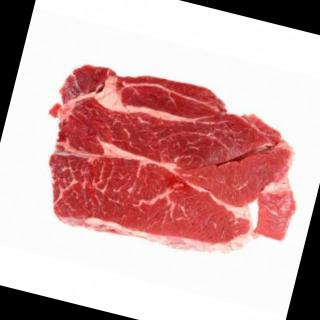Daging Sapi: (29, 57, 317, 277)
